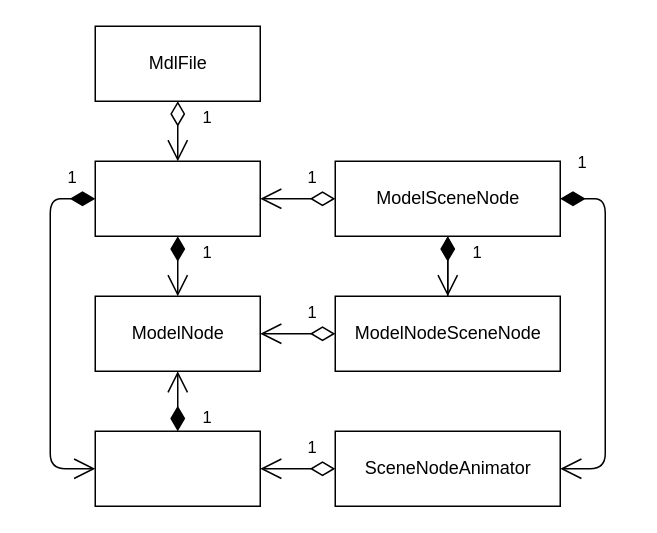
Some shapes in this 657 by 533 pixel diagram are drawn without their labels. The centre of each missing label's shape, as x and y in pixels:
Animation: point (177, 468)
Model: point (177, 198)
